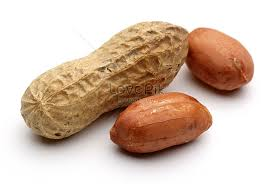kacang2: (12, 12, 190, 139)
